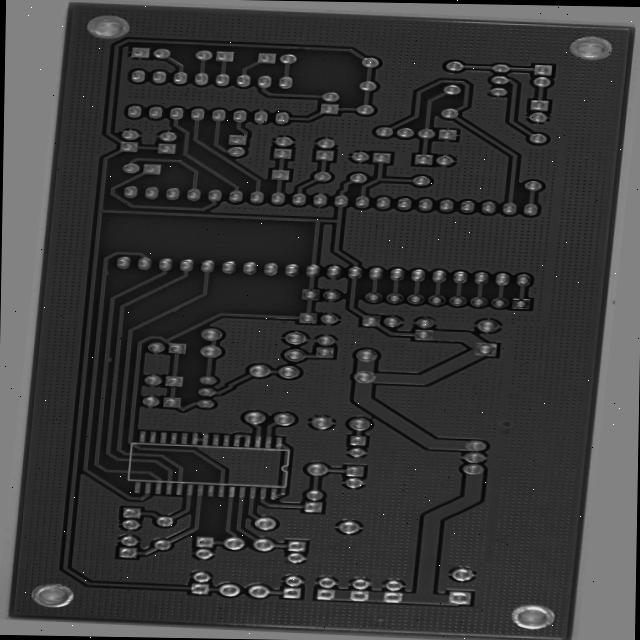spur: (149, 307, 172, 319), (85, 360, 100, 372), (71, 273, 89, 282)
